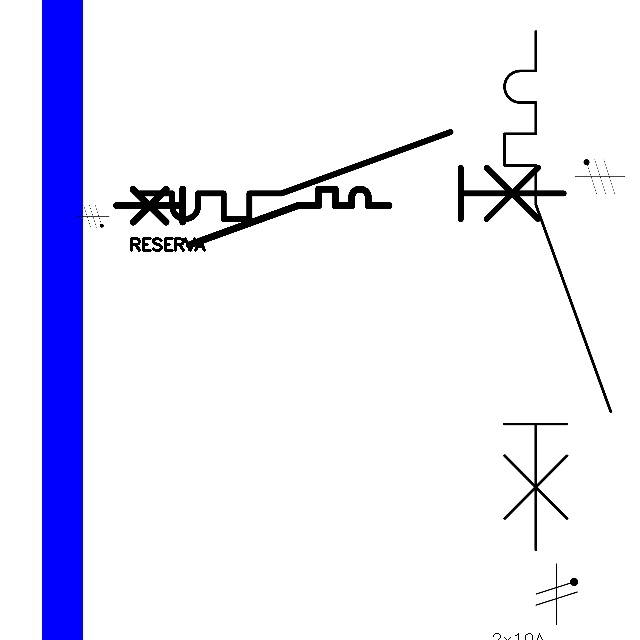interruptor_termomagnetico: (491, 18, 624, 563), (129, 121, 575, 230), (109, 182, 395, 252)
